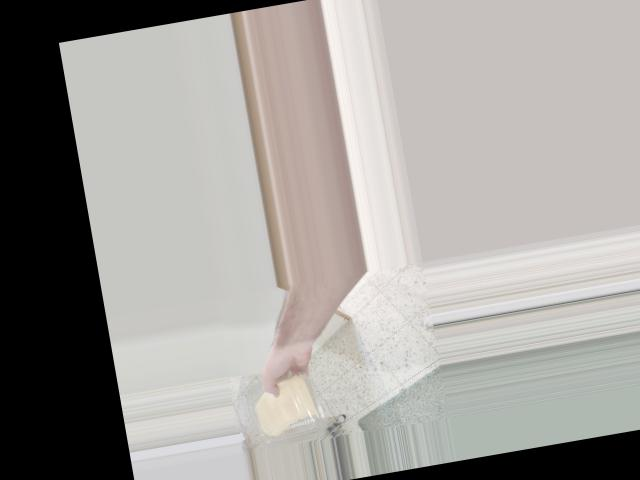cheese: (247, 369, 327, 444)
